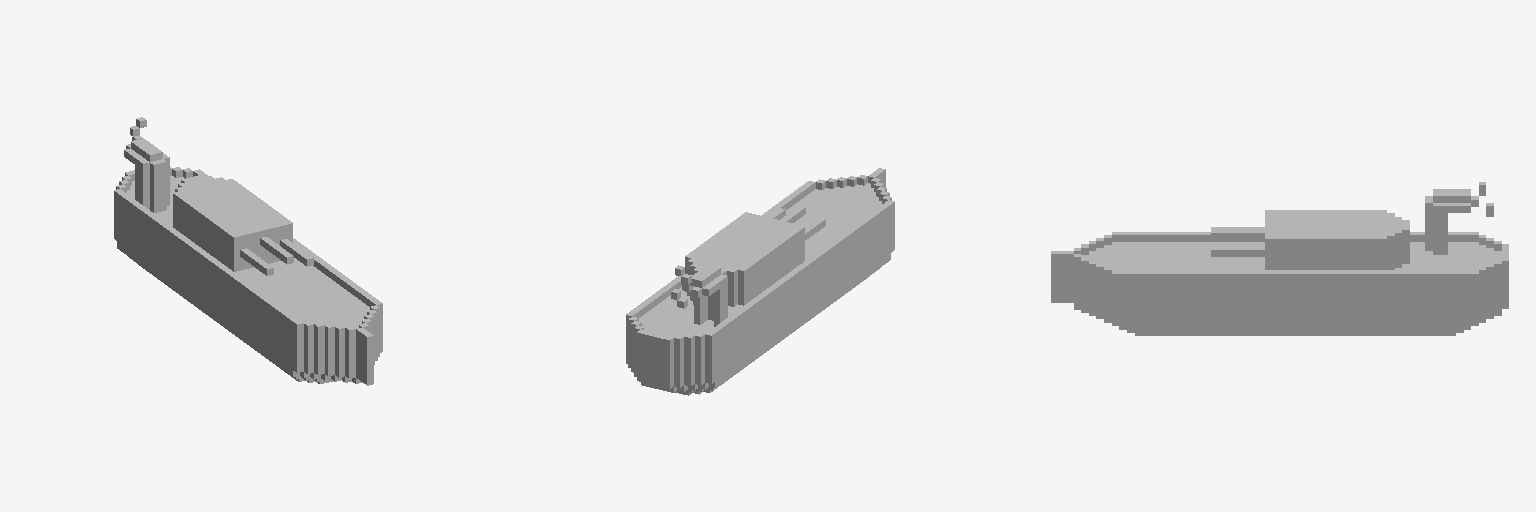
The model's file is Boat_02.obj.
3 views of the same model, side by side, from view 1: azimuth 30°, elevation 25°; view 2: azimuth 150°, elevation 25°; view 3: azimuth 270°, elevation 25° (orthographic).
Visible parts, largest first — view 1: object 1; view 2: object 1; view 3: object 1.
Part boxes in pixels (x1,y1,x2,y2): object 1: (114, 117, 382, 385); object 1: (626, 168, 894, 395); object 1: (1051, 182, 1508, 335).
Bounding box in the file's own units: 2.6 × 3.8 × 12.